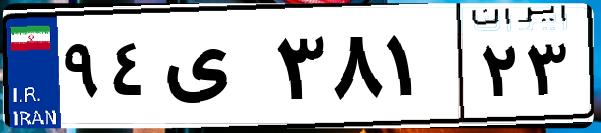1: (385, 28, 445, 110)
2: (475, 38, 525, 113)
3: (270, 28, 330, 110), (525, 38, 570, 115)
4: (110, 28, 158, 98)
8: (330, 28, 385, 110)
9: (57, 26, 110, 100)
ی: (158, 20, 270, 120)
